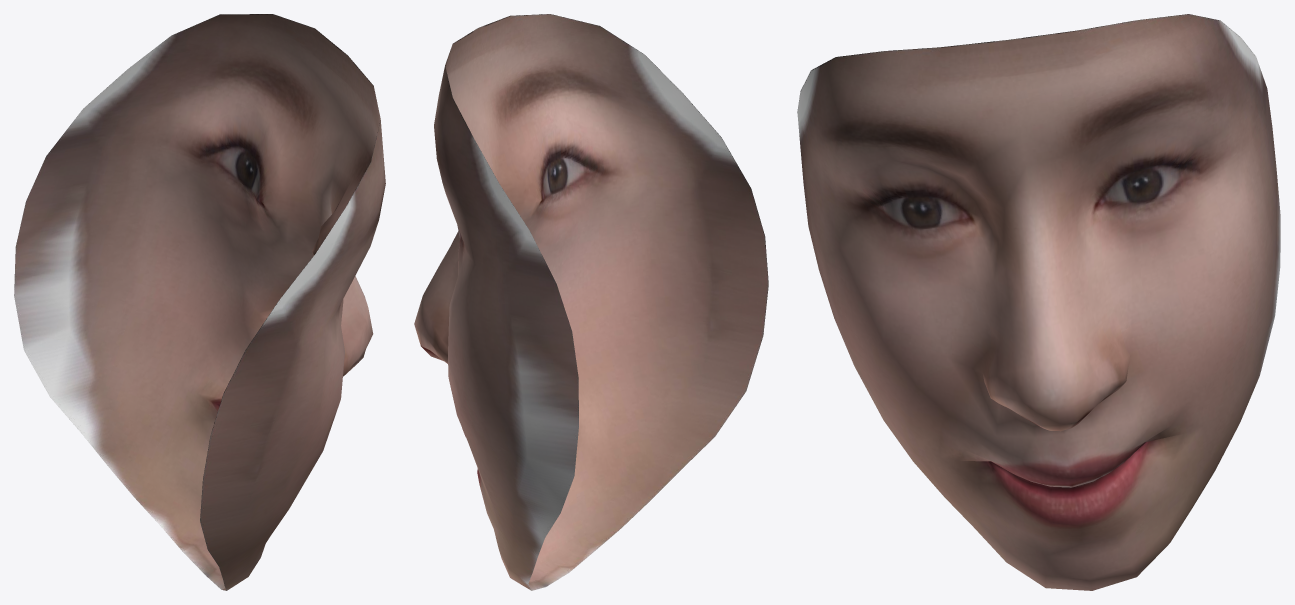
Rendered from kakaostory_beauty.glb.
3 renders of one model, left to right at view 1: azimuth 30°, elevation 25°; view 2: azimuth 150°, elevation 25°; view 3: azimuth 270°, elevation 25°, orthographic. The views are drawn at different scales.
Parts seen in each view (by area): view 1: kakaostory_beauty; view 2: kakaostory_beauty; view 3: kakaostory_beauty.
Boxes of the visible parts, box(x1,y1,x2,y2) form: kakaostory_beauty: box(14, 14, 385, 590); kakaostory_beauty: box(414, 14, 768, 590); kakaostory_beauty: box(797, 14, 1280, 590).
Size of the model in its own units: 0.4425 by 0.8679 by 0.6165.
Materials: 1 (1 with a texture image).
